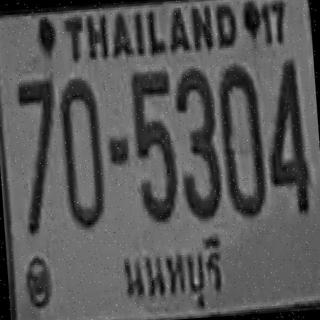N00: (216, 63, 266, 216), (58, 76, 105, 227)
N03: (173, 66, 223, 219)
N04: (262, 56, 311, 214)
N05: (130, 68, 178, 221)
N07: (15, 77, 62, 232), (15, 77, 58, 187)
P37: (120, 231, 227, 320)
